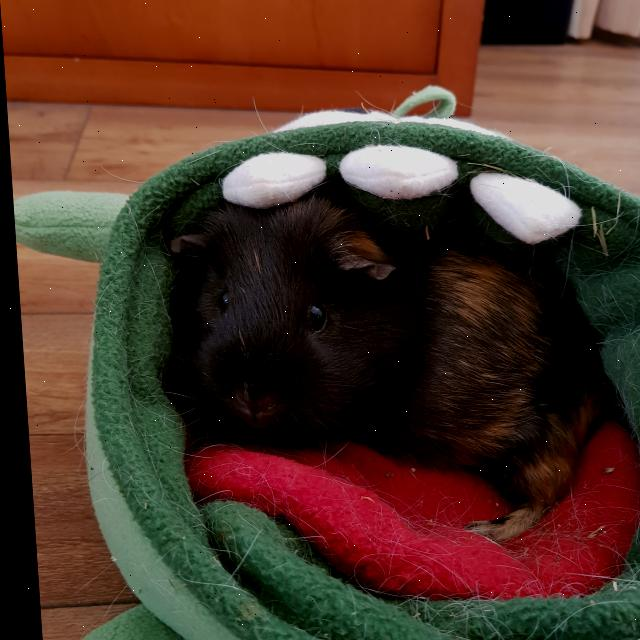guinea pig: (160, 178, 623, 549)
